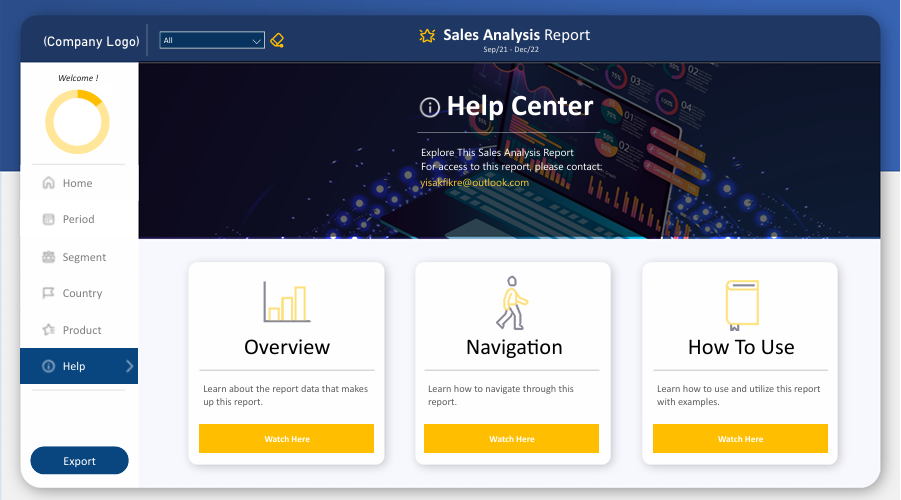

This screenshot's page, from the dashboard's own definition file:
{"tool":"powerbi","page":{"name":"Help","canvas":[1280,720],"ordinal":2},"visuals":[{"type":"actionButton","title":"Button Title Icon","box":[575,30.8,63,40],"z":0,"group":"g1"},{"type":"textbox","title":"Text box Logo","box":[50,41.3,157.5,37.5],"z":0,"group":"g10"},{"type":"pivotTable","fields":{"Rows":["DIM_MANAGERS.Image URL"]},"box":[67.1,127,85,85],"z":0,"group":"g2"},{"type":"actionButton","title":"Button_Help_email","box":[592.5,240,191.2,35],"z":0,"group":"g8"},{"type":"actionButton","title":"Button_Icon_Navigation","box":[602.5,603.7,248.8,40],"z":0,"group":"g5"},{"type":"actionButton","title":"Button_Icon_How_to_use","box":[927.5,603.7,248.8,40],"z":0,"group":"g4"},{"type":"actionButton","title":"Button_icon_Overview","box":[282.5,603.8,248.8,40],"z":0,"group":"g7"},{"type":"actionButton","title":"Button_Export","box":[42,635,140,40],"z":0,"group":"g9"},{"type":"textbox","title":"Text box_How_to_use","box":[927.5,538.7,248.8,50],"z":500,"group":"g4"},{"type":"shape","title":"Shape_How_to_use_Divider","box":[927.5,513.7,248.8,25],"z":625,"group":"g4"},{"type":"group","id":"g1","title":"Page Title","box":[575,28.8,285,56.2],"z":1000,"group":"g10"},{"type":"cardVisual","title":"Card Date Range","fields":{"Data":["Measure.M_Date Selection"]},"box":[665,47.3,123,38],"z":1000,"group":"g1"},{"type":"shape","box":[65.7,132.7,85.7,85.7],"z":1000,"group":"g2"},{"type":"textbox","title":"Text box_Help","box":[592.5,200,282.5,50],"z":1000,"group":"g8"},{"type":"textbox","title":"Text box_How_to_Use","box":[915,468.7,276.2,52.5],"z":1000,"group":"g4"},{"type":"shape","title":"Shape_Bottom_Nav_divider","box":[45,539,132,32],"z":1000,"group":"g9"},{"type":"actionButton","title":"Button_Icon_How_to_use","box":[985,391.2,137.5,78.8],"z":1500,"group":"g4"},{"type":"textbox","title":"Text box Title","box":[625,28.8,235,41],"z":2000,"group":"g1"},{"type":"slicer","title":"Slicer Managers","fields":{"Values":["DIM_MANAGERS.Manager Name"]},"box":[216,35,170,45],"z":2000,"group":"g10"},{"type":"donutChart","title":"Donut Chart Profit Margin and Profit Margin Difference","fields":{"Y":["Measure.M_Profit Margin","Measure.M_100% Minus Profit Margin"]},"box":[47.1,111.3,124.3,124.3],"z":2000,"group":"g2"},{"type":"shape","title":"Shape_Help_Divider_Line","box":[592.5,175,260,25],"z":2000,"group":"g8"},{"type":"shape","title":"Shape_Top_Nav_divider","box":[45,218,132,32],"z":2000,"group":"g9"},{"type":"actionButton","title":"Button Clear Managers","box":[375,44,36,25],"z":3000,"group":"g10"},{"type":"group","id":"g2","title":"Group_Mgr Image","box":[33.3,87.8,154.4,147.8],"z":3000,"group":"g9"},{"type":"shape","title":"Shape Hide Scrol","box":[139.2,117,20,20],"z":3000,"group":"g2"},{"type":"textbox","title":"Text box_Help","box":[610.6,117.5,255.6,70],"z":3000,"group":"g8"},{"type":"textbox","title":"Text box_Navigation","box":[602.5,538.7,248.8,50],"z":3000,"group":"g5"},{"type":"textbox","title":"Text box_Overview","box":[282.5,538.8,248.8,50],"z":3000,"group":"g7"},{"type":"shape","title":"Shape_Overview_Divider","box":[282.5,513.8,248.8,25],"z":3125,"group":"g7"},{"type":"textbox","title":"Text box_Overview","box":[267.5,468.8,278.8,52.5],"z":3250,"group":"g7"},{"type":"actionButton","title":"Button_Icon_Overview","box":[338.7,390,137.5,78.8],"z":3500,"group":"g7"},{"type":"shape","title":"Divider Line Left","box":[192,35,32,45],"z":4000,"group":"g10"},{"type":"cardVisual","title":"Card Welcome","fields":{"Data":["Measure.M_User Greeting"]},"box":[33.3,87.8,154.4,36.7],"z":4000,"group":"g2"},{"type":"actionButton","title":"Button_Icon_Help","box":[577.5,131.2,65.1,42],"z":4000,"group":"g8"},{"type":"group","id":"g3","title":"Button_Help","box":[28,496,167.1,50],"z":4000,"group":"g9"},{"type":"actionButton","title":"Button_Help_Active","box":[28,496,167.1,50],"z":4000,"group":"g3"},{"type":"shape","title":"Shape_Navigation_Divider","box":[602.5,513.7,248.8,25],"z":4000,"group":"g5"},{"type":"textbox","title":"Text box_Navigation","box":[593.7,468.7,273.8,52.5],"z":4250,"group":"g5"},{"type":"actionButton","title":"Button_Icon_Navigation","box":[657.5,391.2,137.5,78.8],"z":4500,"group":"g5"},{"type":"actionButton","title":"Button arrow","box":[165.1,496,30,50],"z":4500,"group":"g3"},{"type":"actionButton","title":"Button_Product","box":[28,443.8,167.1,50],"z":6000,"group":"g9"},{"type":"actionButton","title":"Button_Country","box":[28,391.6,167.1,50],"z":8000,"group":"g9"},{"type":"actionButton","title":"Button_Segment","box":[28,339.4,167.1,50],"z":10000,"group":"g9"},{"type":"actionButton","title":"Button_Period","box":[28,287.2,167.1,50],"z":12000,"group":"g9"},{"type":"group","id":"g4","title":"How_to_use_Info","box":[915,391.2,276.2,252.5],"z":12000,"group":"g6"},{"type":"actionButton","title":"Button_Home","box":[28,235,168,50],"z":13000,"group":"g9"},{"type":"group","id":"g5","title":"Navigation_Info","box":[593.7,391.2,273.8,252.5],"z":13000,"group":"g6"},{"type":"group","id":"g6","title":"Info","box":[267.5,390,923.8,253.8],"z":13625},{"type":"group","id":"g7","title":"Overview_Info","box":[267.5,390,278.8,253.8],"z":14000,"group":"g6"},{"type":"group","id":"g8","title":"Help_Message","box":[577.5,117.5,297.5,157.5],"z":14125},{"type":"group","id":"g9","title":"Navigation","box":[28,87.8,168,587.2],"z":14250},{"type":"group","id":"g10","title":"Header","box":[50,28.8,810,56.2],"z":14500}]}

Visuals, with their boxes in screenshot pixels (x1, y1, x2, y2), scaled from the page's 1280x720 canvas onto the 901x500 screenshot:
"Button Title Icon" actionButton: (405,21,449,49)
"Text box Logo" textbox: (35,29,146,55)
pivotTable - DIM_MANAGERS.Image URL: (47,88,107,147)
"Button_Help_email" actionButton: (417,167,552,191)
"Button_Icon_Navigation" actionButton: (424,419,599,447)
"Button_Icon_How_to_use" actionButton: (653,419,828,447)
"Button_icon_Overview" actionButton: (199,419,374,447)
"Button_Export" actionButton: (30,441,128,469)
"Text box_How_to_use" textbox: (653,374,828,409)
"Shape_How_to_use_Divider" shape: (653,357,828,374)
"Page Title" group: (405,20,605,59)
"Card Date Range" cardVisual: (468,33,555,59)
shape: (46,92,107,152)
"Text box_Help" textbox: (417,139,616,174)
"Text box_How_to_Use" textbox: (644,325,838,362)
"Shape_Bottom_Nav_divider" shape: (32,374,125,397)
"Button_Icon_How_to_use" actionButton: (693,272,790,326)
"Text box Title" textbox: (440,20,605,48)
"Slicer Managers" slicer: (152,24,272,56)
"Donut Chart Profit Margin and Profit Margin Difference" donutChart: (33,77,121,164)
"Shape_Help_Divider_Line" shape: (417,122,600,139)
"Shape_Top_Nav_divider" shape: (32,151,125,174)
"Button Clear Managers" actionButton: (264,31,289,48)
"Group_Mgr Image" group: (23,61,132,164)
"Shape Hide Scrol" shape: (98,81,112,95)
"Text box_Help" textbox: (430,82,610,130)
"Text box_Navigation" textbox: (424,374,599,409)
"Text box_Overview" textbox: (199,374,374,409)
"Shape_Overview_Divider" shape: (199,357,374,374)
"Text box_Overview" textbox: (188,326,385,362)
"Button_Icon_Overview" actionButton: (238,271,335,326)
"Divider Line Left" shape: (135,24,158,56)
"Card Welcome" cardVisual: (23,61,132,86)
"Button_Icon_Help" actionButton: (407,91,452,120)
"Button_Help" group: (20,344,137,379)
"Button_Help_Active" actionButton: (20,344,137,379)
"Shape_Navigation_Divider" shape: (424,357,599,374)
"Text box_Navigation" textbox: (418,325,611,362)
"Button_Icon_Navigation" actionButton: (463,272,560,326)
"Button arrow" actionButton: (116,344,137,379)
"Button_Product" actionButton: (20,308,137,343)
"Button_Country" actionButton: (20,272,137,307)
"Button_Segment" actionButton: (20,236,137,270)
"Button_Period" actionButton: (20,199,137,234)
"How_to_use_Info" group: (644,272,838,447)
"Button_Home" actionButton: (20,163,138,198)
"Navigation_Info" group: (418,272,611,447)
"Info" group: (188,271,839,447)
"Overview_Info" group: (188,271,385,447)
"Help_Message" group: (407,82,616,191)
"Navigation" group: (20,61,138,469)
"Header" group: (35,20,605,59)
